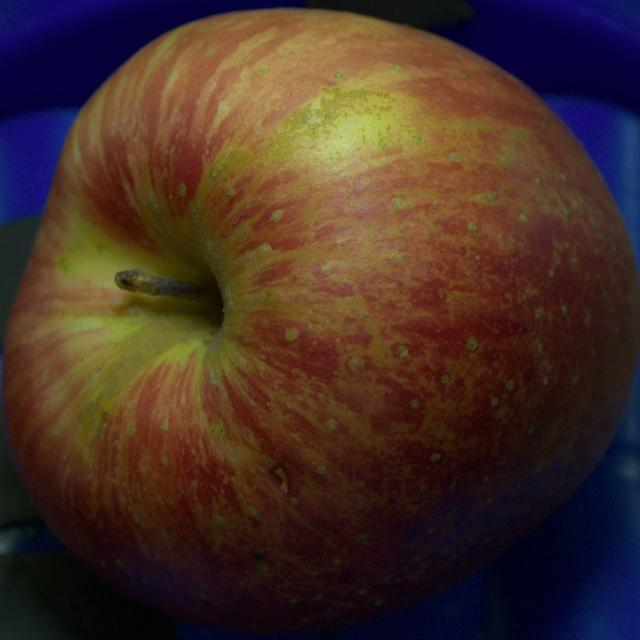apple: (2, 9, 639, 632)
pest: (252, 554, 266, 570)
scratch: (271, 465, 288, 492)
